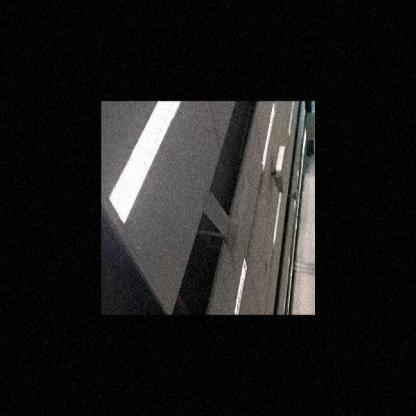light_on: (105, 101, 183, 229), (228, 250, 256, 314), (258, 102, 278, 172), (270, 188, 286, 249), (286, 101, 296, 138)
